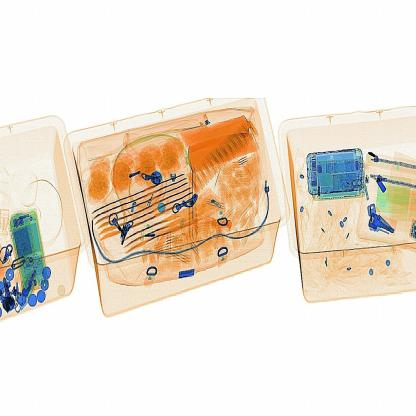wrench: (180, 161, 206, 245)
